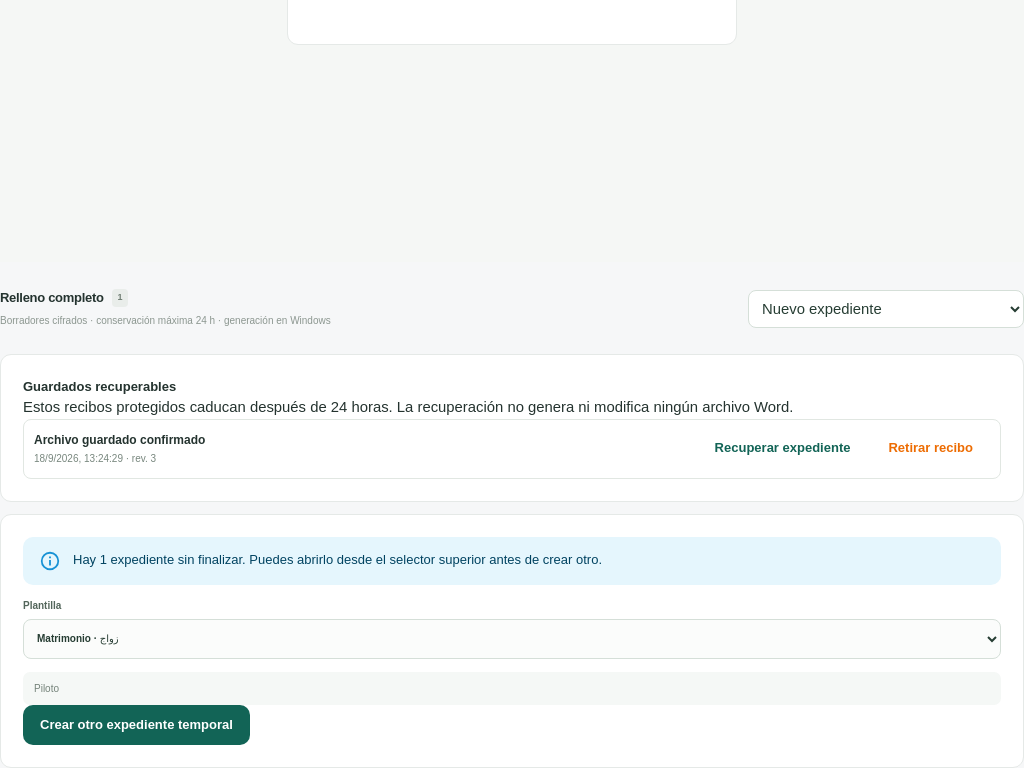
Test: complete case native saving › rejects a confirmed receipt from an obsolete case revision without removing it
(page scrolled)
Expected: the text "Piloto" is shown, [23,672,1001,705]
Click the button "Recuperar expediente": (782, 449) [698,429,867,469]
(page scrolled)
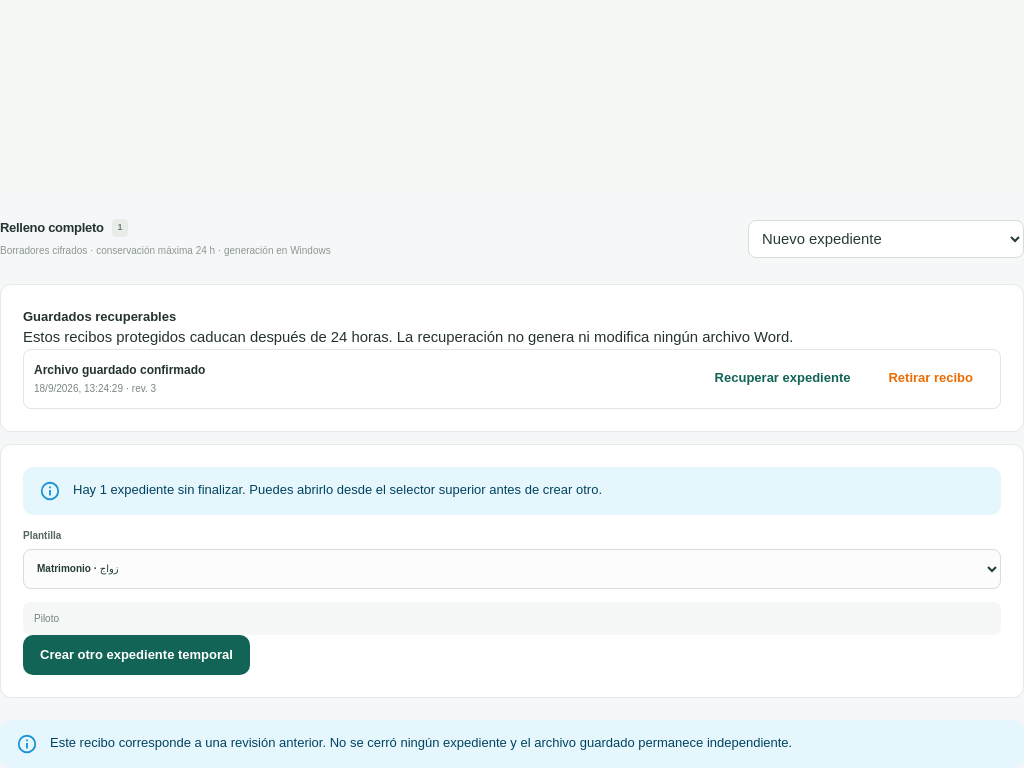
Now the text "Este recibo corresponde a una revisión anterior. No se cerró ningún expediente y el archivo guardado permanece independi" is shown, box [50,735,792,750]
